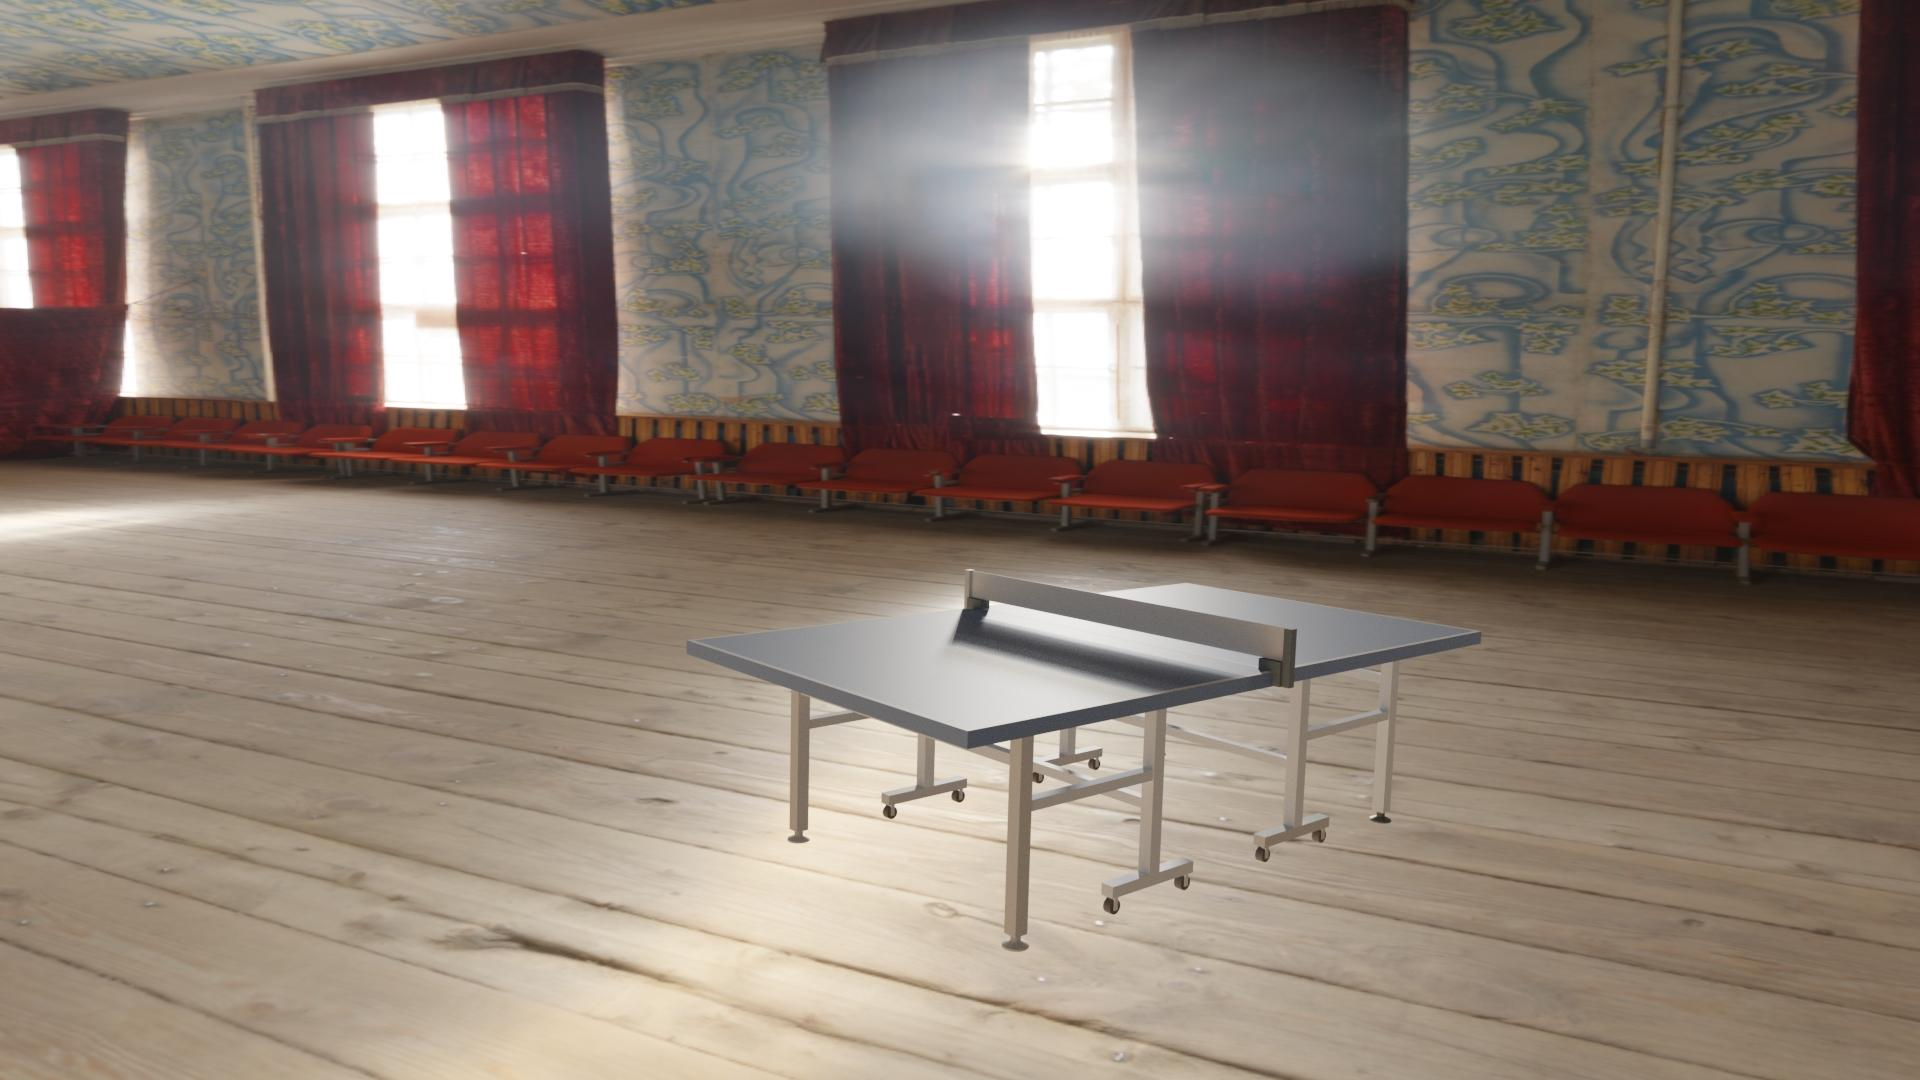table: (695, 584, 1474, 728)
